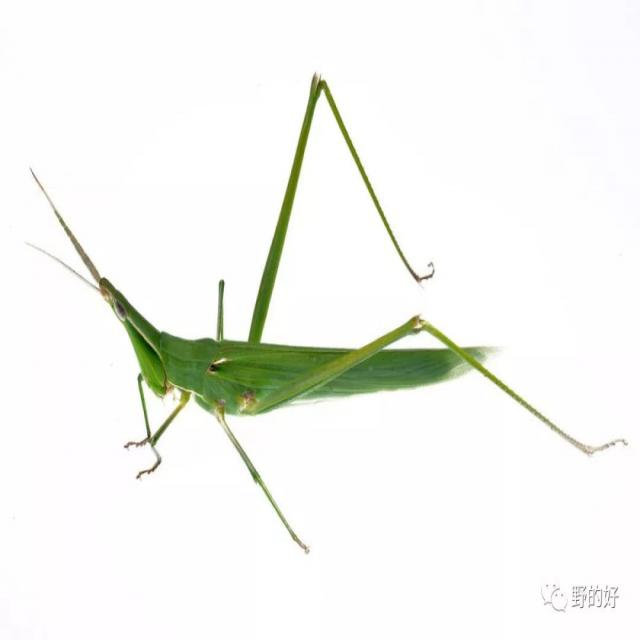ZhaMeng: (21, 139, 546, 480)
